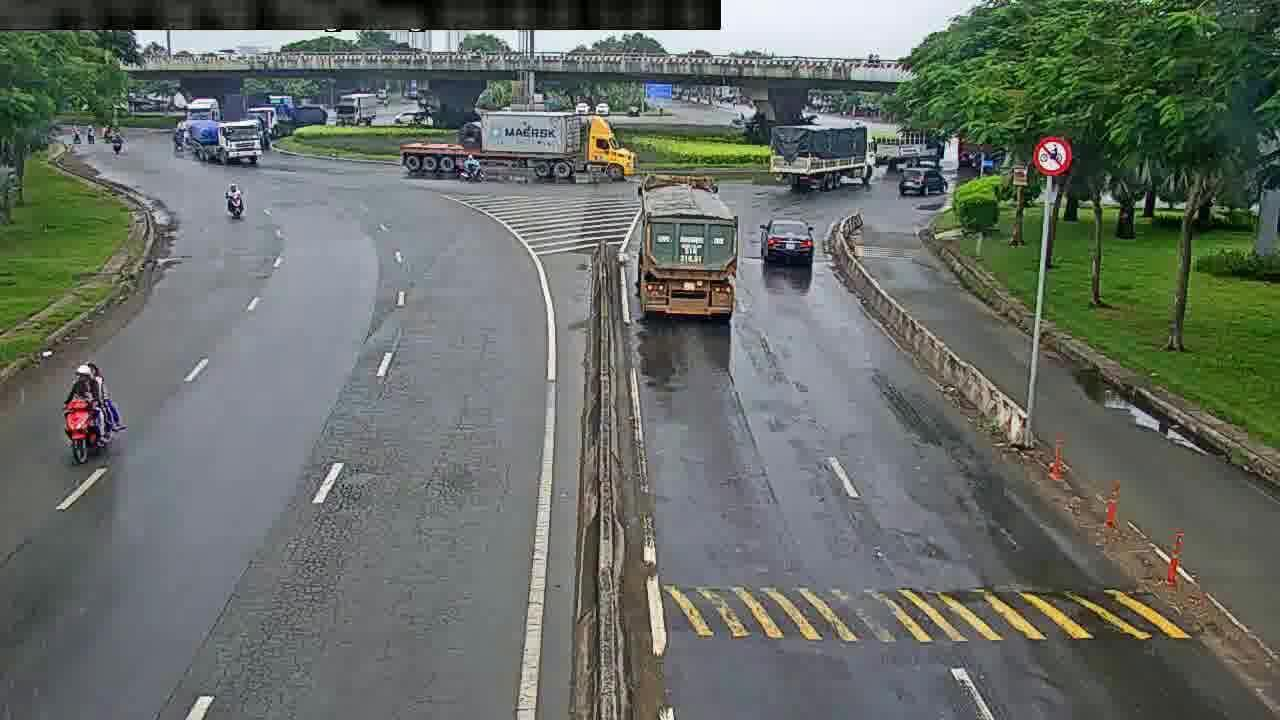8: (629, 169, 741, 319), (396, 114, 640, 176), (768, 116, 880, 187), (183, 110, 276, 166)
container: (758, 214, 821, 264), (895, 168, 952, 198)
motorbike: (62, 360, 121, 469), (224, 185, 250, 223)
